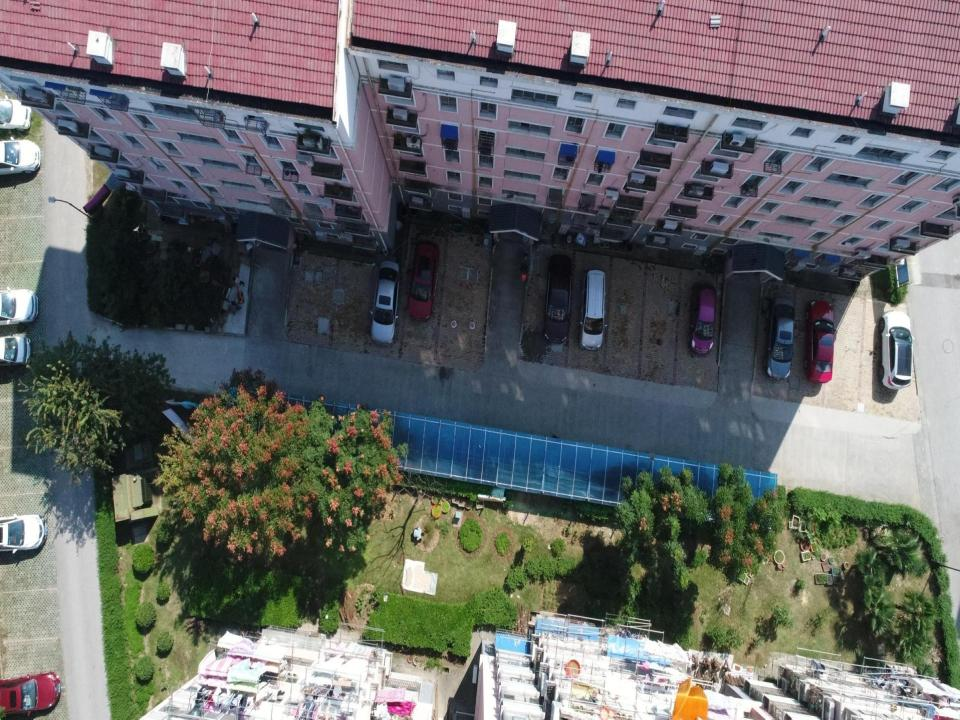car: (878, 309, 914, 390), (0, 671, 61, 716), (408, 239, 440, 322), (372, 260, 402, 348), (543, 254, 572, 344), (765, 296, 795, 382), (804, 299, 833, 383), (688, 281, 716, 356), (0, 513, 47, 553), (0, 138, 41, 176), (0, 289, 39, 325), (0, 99, 32, 132), (0, 336, 31, 367)
van: (581, 269, 606, 351)
